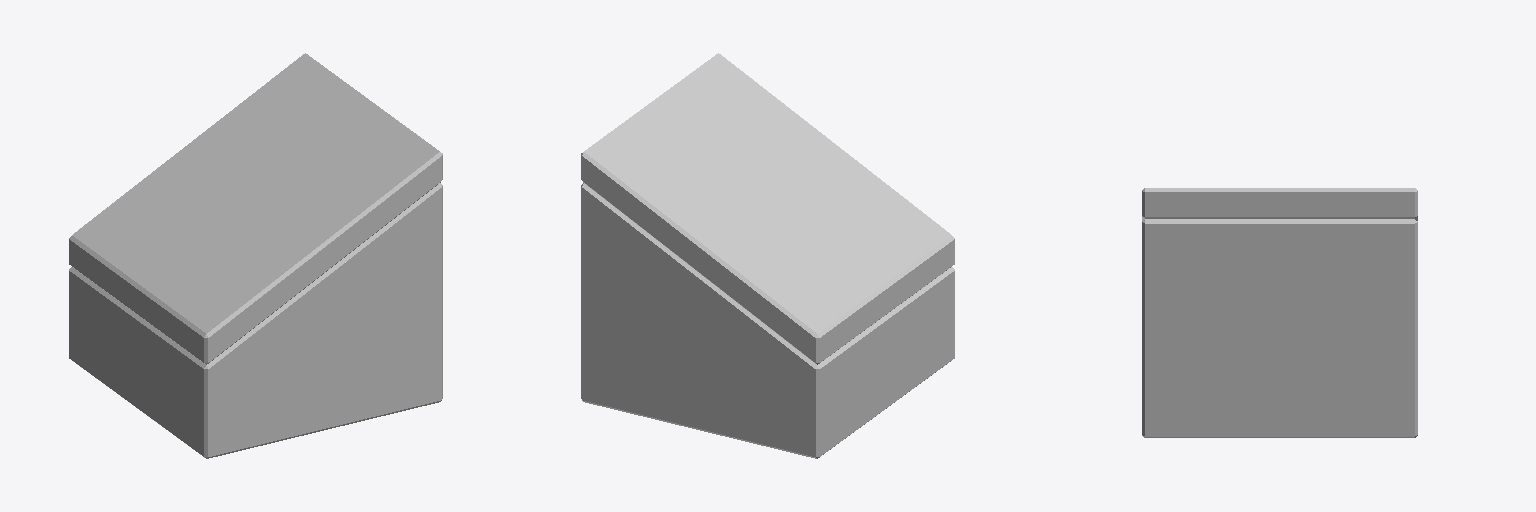
File: platform_slope_4x4x4_green.obj
The picture shows the model from 3 angles: view 1: azimuth 30°, elevation 25°; view 2: azimuth 150°, elevation 25°; view 3: azimuth 270°, elevation 25°; orthographic projection.
Parts seen in each view (by area): view 1: platform_slope_4x4x4_green; view 2: platform_slope_4x4x4_green; view 3: platform_slope_4x4x4_green.
Part boxes in pixels (left/top/right/bottom): platform_slope_4x4x4_green: left=69, top=53, right=442, bottom=458; platform_slope_4x4x4_green: left=581, top=53, right=954, bottom=458; platform_slope_4x4x4_green: left=1142, top=188, right=1417, bottom=437.
Size of the model in its own units: 4 by 4 by 4.